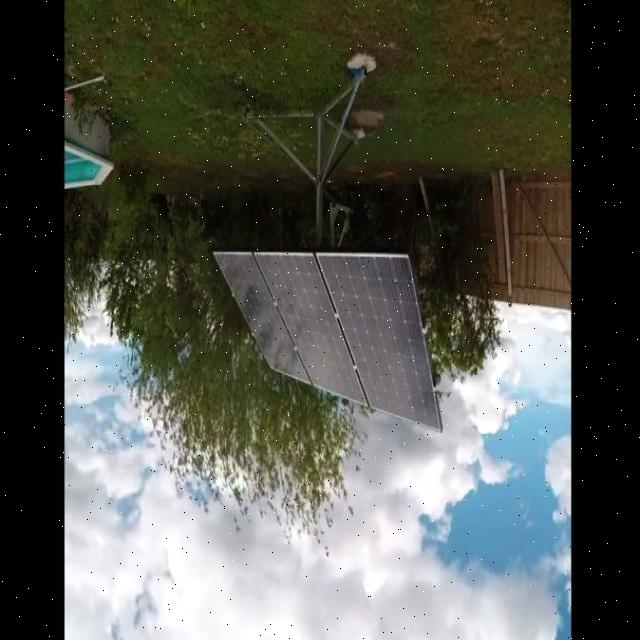Normal Solar Panel: (319, 251, 441, 431), (255, 252, 366, 402), (214, 252, 310, 382)
